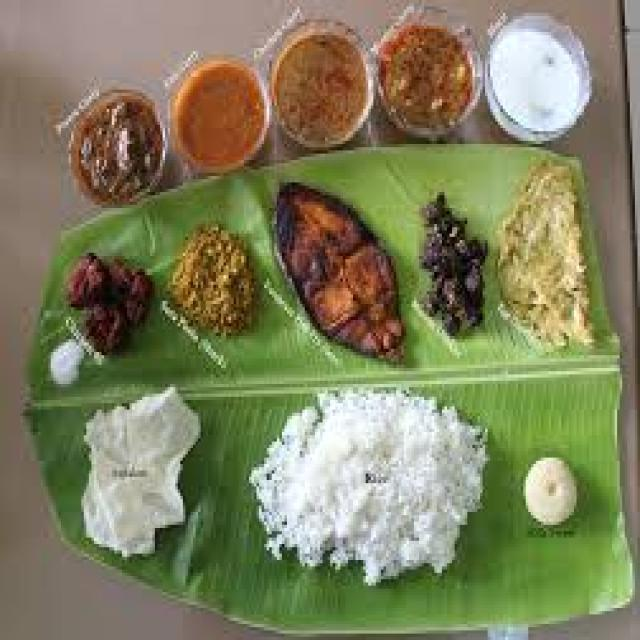curd: (480, 14, 593, 145)
papad: (74, 380, 208, 550)
rice: (254, 388, 484, 577)
sambar-rasam: (166, 56, 270, 182)
sweet: (520, 454, 593, 545)
veg-fry: (278, 184, 404, 339)
